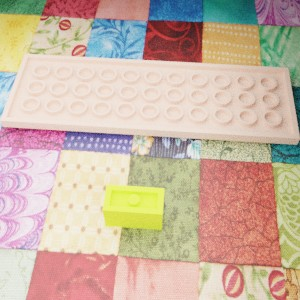lego: (0, 53, 300, 144), (102, 184, 164, 229)
